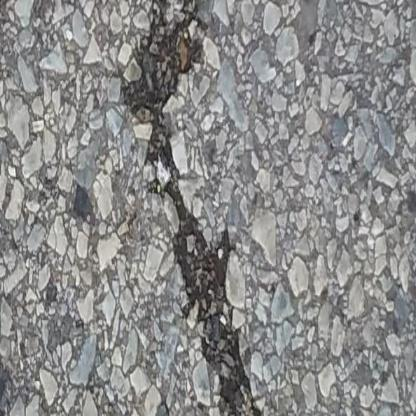Cracks: (120, 0, 268, 416)
